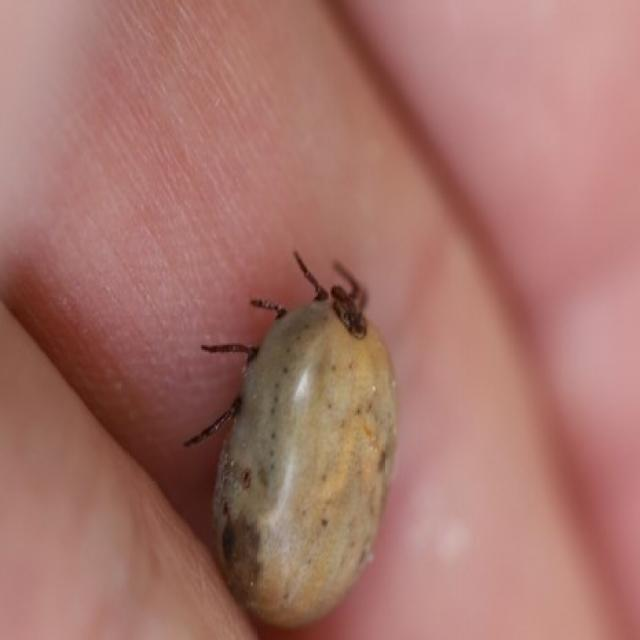Dermacentor Reticulatus-F-Fed: (183, 251, 399, 633)
